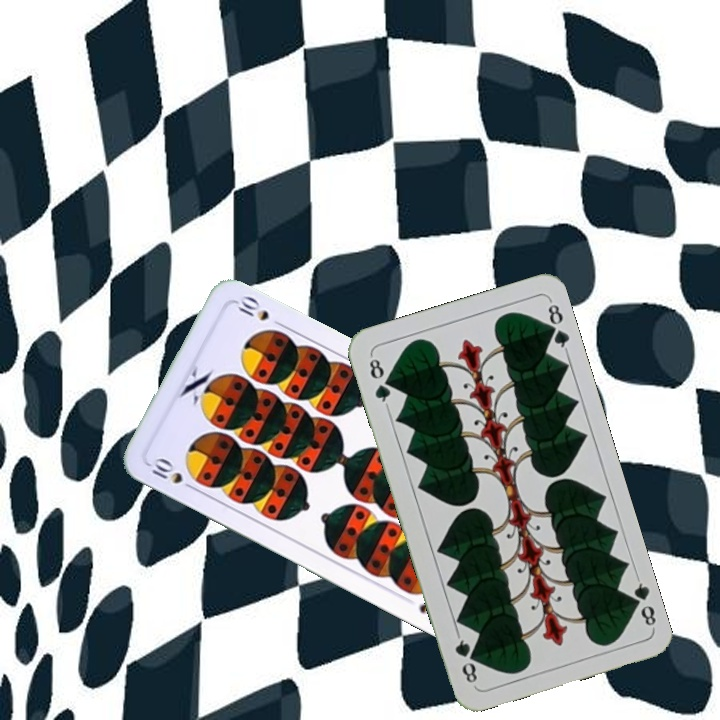G8: (624, 573, 659, 631), (365, 352, 394, 409)
S10: (145, 454, 199, 494)
